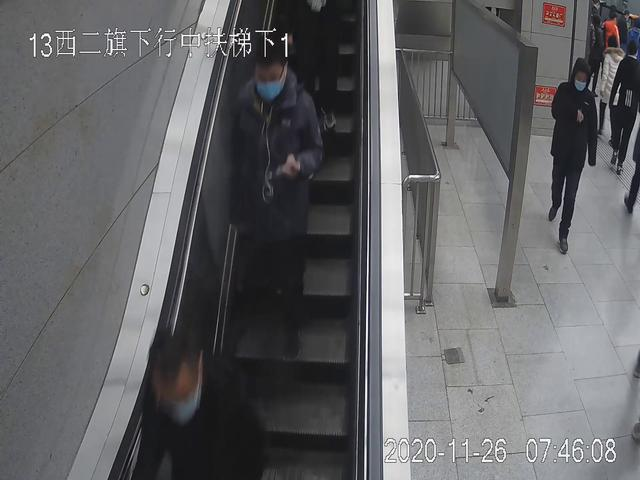person: (234, 45, 322, 359), (549, 57, 597, 255), (614, 44, 640, 171), (599, 36, 628, 139)
